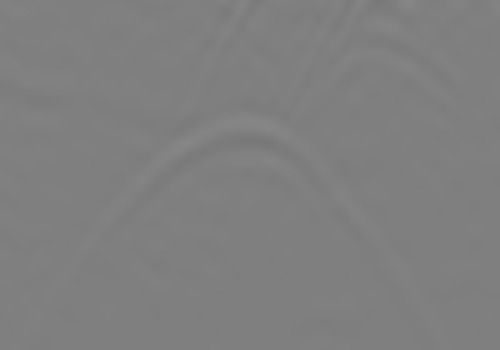hyperbola: (73, 107, 412, 313)
